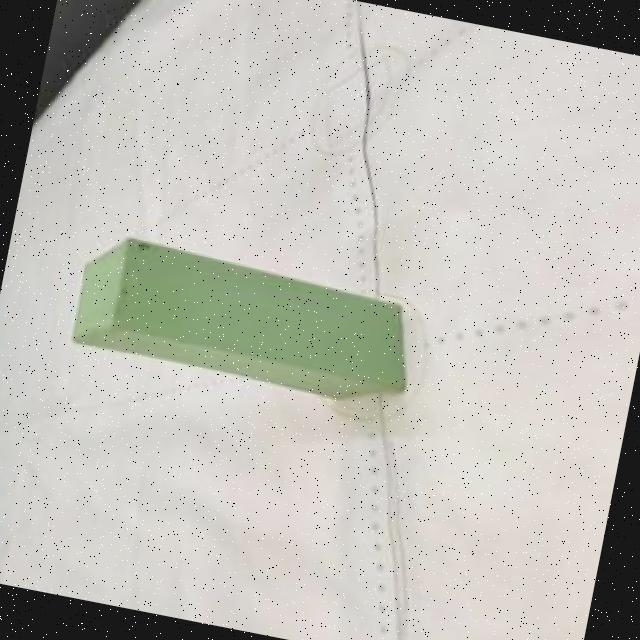greenbox: (66, 225, 429, 412)
